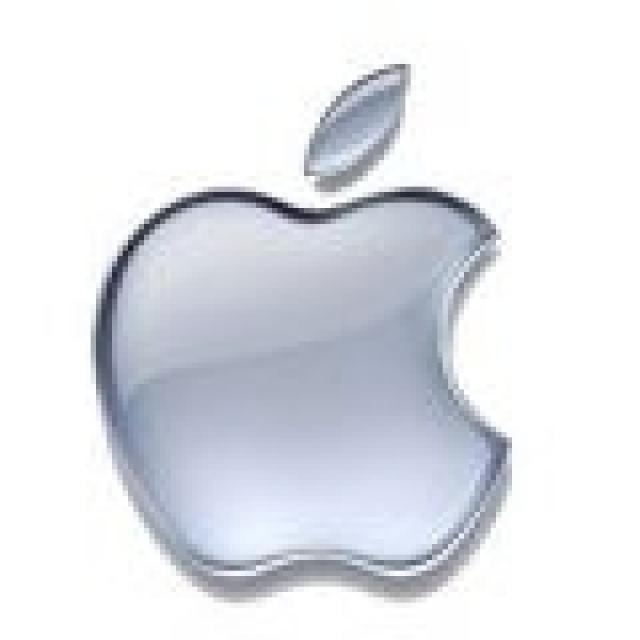apple: (70, 33, 545, 609)
